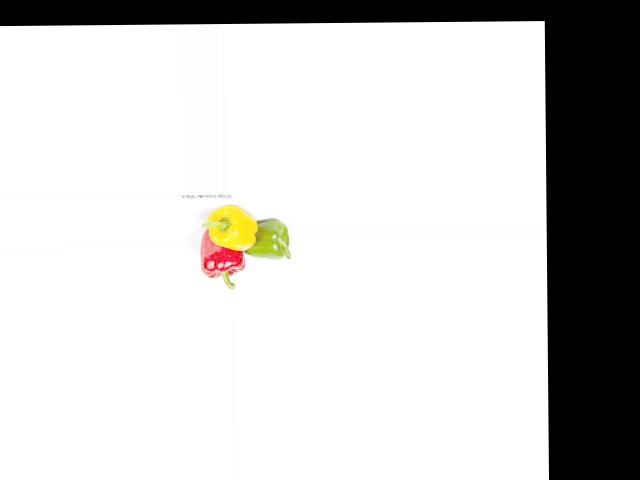bell_pepper: (195, 231, 246, 289)
